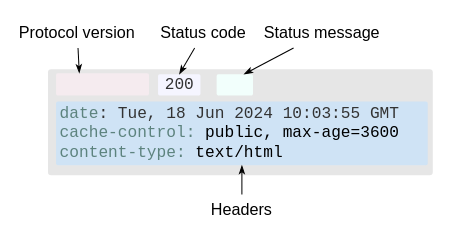
The diagram is 449 pixels wide and 241 high, and some of its shapes have lost their labels. Each missing label, with the centre of its shape:
HTTP / 1.1: the point at 102,84
OK: the point at 234,84
